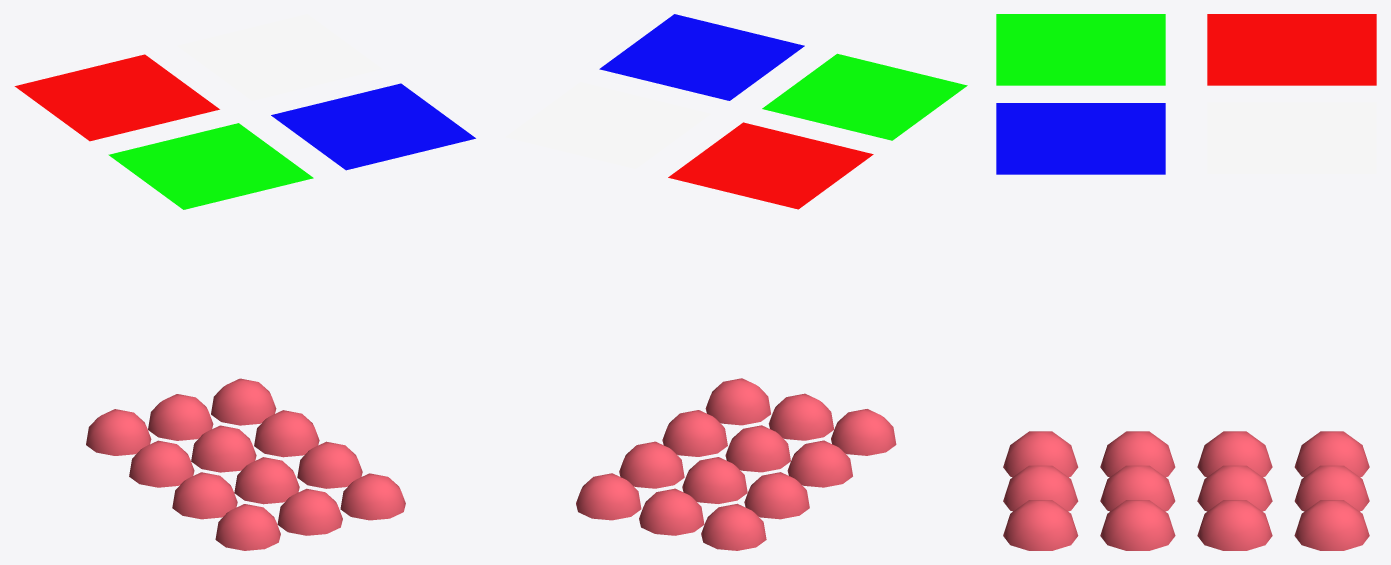
File: rough-metallic.glb
3 views of the same model, side by side, from view 1: azimuth 30°, elevation 25°; view 2: azimuth 150°, elevation 25°; view 3: azimuth 270°, elevation 25° (orthographic). The views are drawn at different scales.
Parts seen in each view (by area): view 1: lightRed, light, lightBlue, lightGreen, sphere, sphere.001, sphere.003, sphere.011, sphere.009, sphere.015, sphere.004, sphere.005 (+4 smaller); view 2: light, lightRed, lightGreen, lightBlue, sphere.013, sphere.012, sphere.015, sphere.004, sphere.005, sphere.001, sphere.009, sphere (+4 smaller); view 3: light, lightRed, lightGreen, lightBlue, sphere.003, sphere.011, sphere.015, sphere.007, sphere.001, sphere.005, sphere.013, sphere.009 (+4 smaller).
Boxes of the visible parts, x1,y1,x2,y2 form: lightRed: (14,54,219,141); light: (177,14,382,100); lightBlue: (271,83,475,170); lightGreen: (108,123,313,209); sphere: (215,504,280,550); sphere.001: (277,488,342,535); sphere.003: (340,473,405,520); sphere.011: (254,410,319,457); sphere.009: (191,425,256,472); sphere.015: (211,378,276,425); sphere.004: (172,472,237,519); sphere.005: (234,457,299,504); light: (505,82,710,168); lightRed: (668,122,873,209); lightGreen: (762,53,967,140); lightBlue: (599,14,804,100); sphere.013: (639,488,704,535); sphere.012: (701,503,766,550); sphere.015: (576,473,641,520); sphere.004: (787,440,852,487); sphere.005: (725,425,790,472); sphere.001: (768,393,834,440); sphere.009: (682,457,747,503); sphere: (831,409,896,455); light: (1207,102,1376,173); lightRed: (1207,14,1376,85); lightGreen: (996,14,1165,85); lightBlue: (996,103,1165,174); sphere.003: (1003,500,1078,550); sphere.011: (1197,500,1272,550); sphere.015: (1294,500,1369,550); sphere.007: (1100,500,1175,550); sphere.001: (1003,465,1078,511); sphere.005: (1100,465,1175,511); sphere.013: (1294,465,1369,511); sphere.009: (1197,465,1272,511).
Size of what is drawn, in the model's own units: 2.52 by 2.99 by 2.52.
